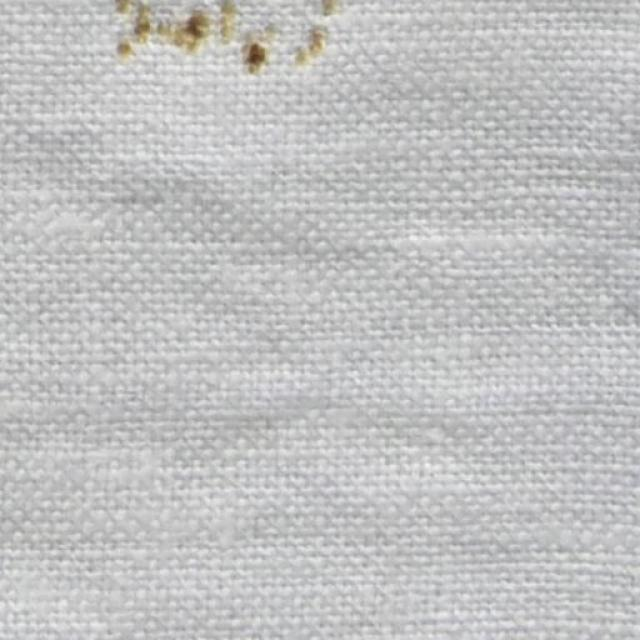Stain: (107, 0, 339, 77)
